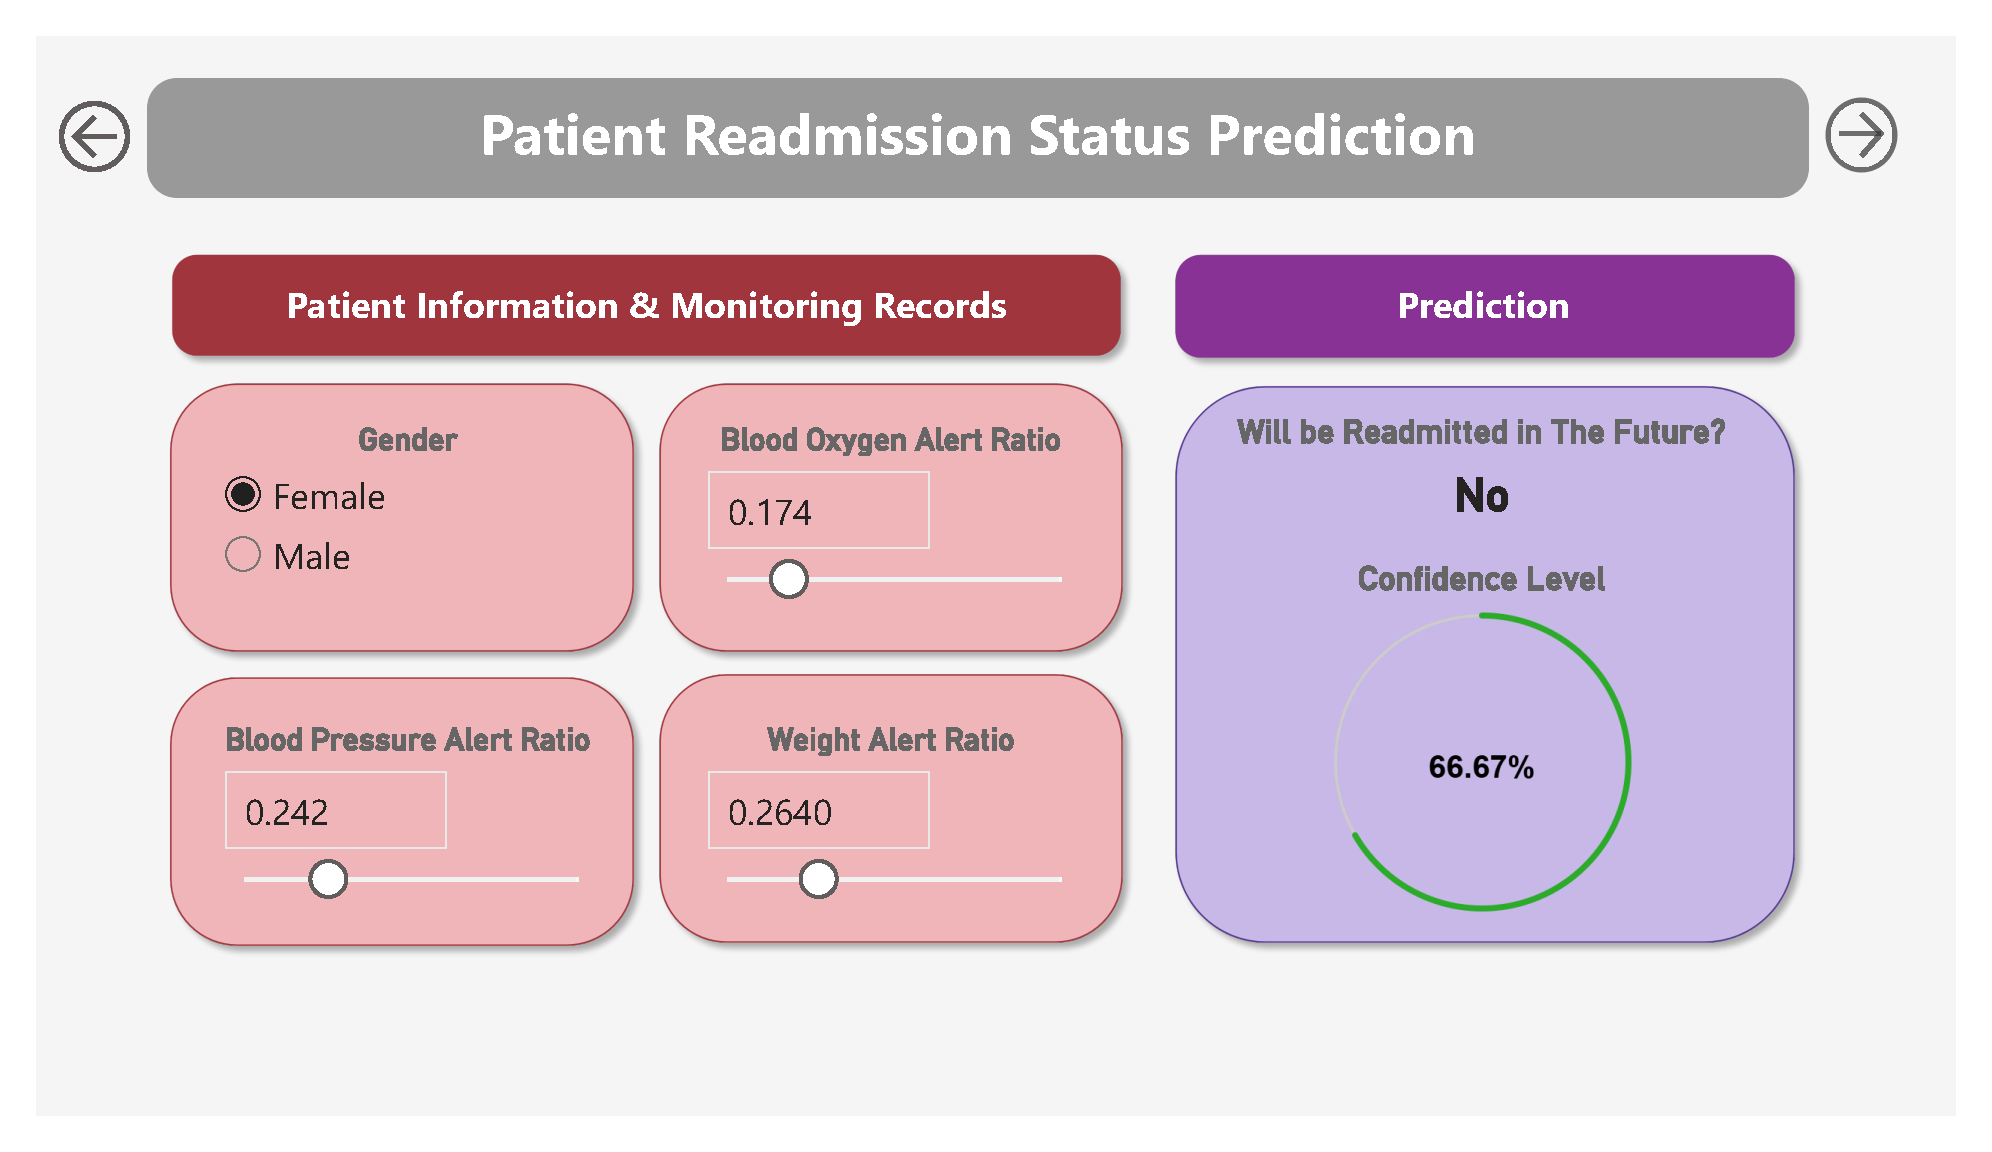

This screenshot's page, from the dashboard's own definition file:
{"tool":"powerbi","page":{"name":"Readmission Status by Model 2","canvas":[1280,720],"ordinal":4},"visuals":[{"type":"shape","title":"Background","box":[0,0,1280,720],"z":0},{"type":"shape","box":[81.4,223.3,326,196],"z":0,"group":"g1"},{"type":"shape","box":[407.4,223.3,326,196],"z":0,"group":"g2"},{"type":"shape","box":[751.4,137.3,430,86],"z":1000},{"type":"shape","box":[81.4,419.3,326,196],"z":1000,"group":"g2"},{"type":"group","id":"g1","title":"Background(1)","box":[81.4,223.3,326,196],"z":2000,"group":"g2"},{"type":"shape","box":[751.4,225.3,430,388],"z":2000},{"type":"group","id":"g2","title":"Group 1","box":[81.4,223.3,652,392],"z":3000},{"type":"shape","box":[407.4,417.2,326,196],"z":3000,"group":"g2"},{"type":"shape","box":[82.1,137.4,650,85],"z":4000},{"type":"slicer","title":"Blood Pressure Alert Ratio","fields":{"Values":["Blood Pressure Alert Ratio.Blood Pressure Alert Ratio"]},"box":[113.4,457.3,270,136],"z":5000},{"type":"shape","box":[1193.3,41.8,48.5,49.6],"z":6000,"group":"g3"},{"type":"slicer","title":"Blood Oxygen Alert Ratio","fields":{"Values":["Blood Oxygen Alert Ratio.Blood Oxygen Alert Ratio"]},"box":[435.4,257.3,270,138],"z":6000},{"type":"actionButton","box":[1196.7,39.5,66.5,54.1],"z":7000,"group":"g3"},{"type":"slicer","title":"Weight Alert Ratio","fields":{"Values":["Weight Alert Ratio.Weight Alert Ratio"]},"box":[435.4,457.3,270,136],"z":7000},{"type":"slicer","title":"Gender","fields":{"Values":["Gender.Gender"]},"box":[113.4,257.3,270,124],"z":11000},{"type":"payPalKPIDonutChart55A431AB15A540ED924ACD72ED8D259F","title":"Confidence Level","fields":{"myvalue":["_Measure.Confidence Leve"]},"box":[789.4,349.3,350,244],"z":12000},{"type":"shape","box":[74,28,1108,80],"z":13000},{"type":"textbox","box":[106,34,1044,68],"z":14000},{"type":"card","title":"Will be Readmitted in The Future?","fields":{"Values":["_Measure.Predicted Labe"]},"box":[789.4,251.3,350,80],"z":15000},{"type":"textbox","box":[119.4,157.3,576,56],"z":16000},{"type":"textbox","box":[815,156.7,300,56.7],"z":17000},{"type":"actionButton","box":[9,37.2,65.4,59.8],"z":18000},{"type":"group","id":"g3","title":"Group 1","box":[1193.3,39.5,69.9,54.1],"z":19000}]}

Visuals, with their boxes in screenshot pixels (x1, y1, x2, y2), scaled from the page's 1280x720 canvas onto the 1992x1152 screenshot:
"Background" shape: <box>0,0,1991,1151</box>
shape: <box>127,357,634,671</box>
shape: <box>634,357,1141,671</box>
shape: <box>1169,220,1839,357</box>
shape: <box>127,671,634,984</box>
"Background(1)" group: <box>127,357,634,671</box>
shape: <box>1169,360,1839,981</box>
"Group 1" group: <box>127,357,1141,984</box>
shape: <box>634,668,1141,981</box>
shape: <box>128,220,1139,356</box>
"Blood Pressure Alert Ratio" slicer: <box>176,732,597,949</box>
shape: <box>1857,67,1933,146</box>
"Blood Oxygen Alert Ratio" slicer: <box>678,412,1098,632</box>
actionButton: <box>1862,63,1966,150</box>
"Weight Alert Ratio" slicer: <box>678,732,1098,949</box>
"Gender" slicer: <box>176,412,597,610</box>
"Confidence Level" payPalKPIDonutChart55A431AB15A540ED924ACD72ED8D259F: <box>1229,559,1773,949</box>
shape: <box>115,45,1839,173</box>
textbox: <box>165,54,1790,163</box>
"Will be Readmitted in The Future?" card: <box>1229,402,1773,530</box>
textbox: <box>186,252,1082,341</box>
textbox: <box>1268,251,1735,341</box>
actionButton: <box>14,60,116,155</box>
"Group 1" group: <box>1857,63,1966,150</box>
